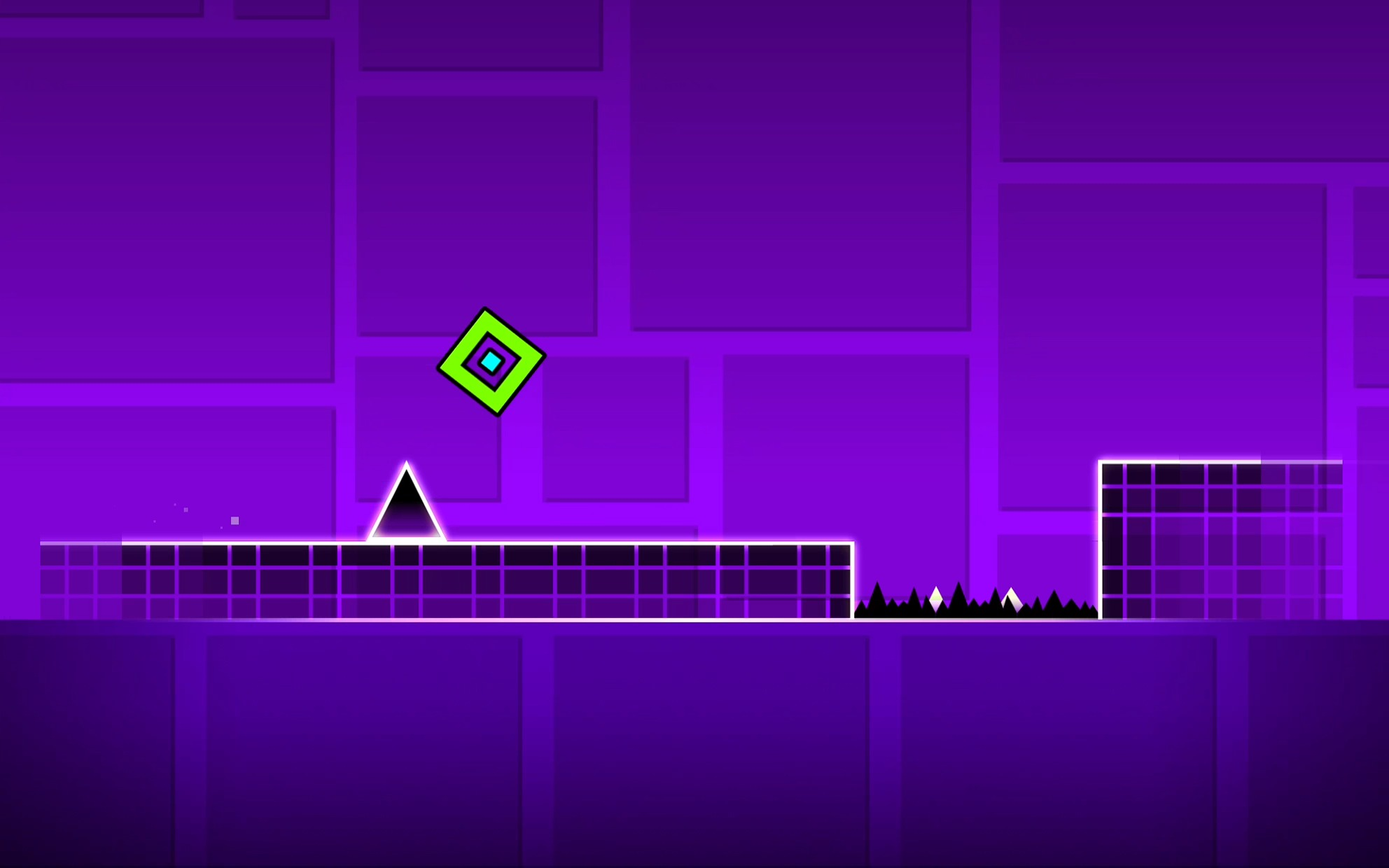Block2: (33, 540, 851, 616), (1101, 461, 1357, 617)
Player: (436, 306, 546, 414)
Spike: (367, 462, 445, 540)
Spike3: (856, 582, 1098, 622)
